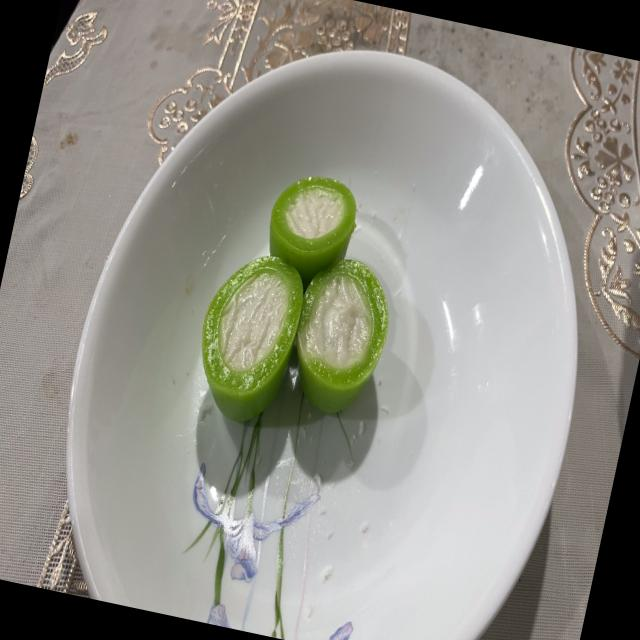nona-manis: (201, 255, 303, 422), (296, 259, 388, 413), (269, 176, 356, 287)
